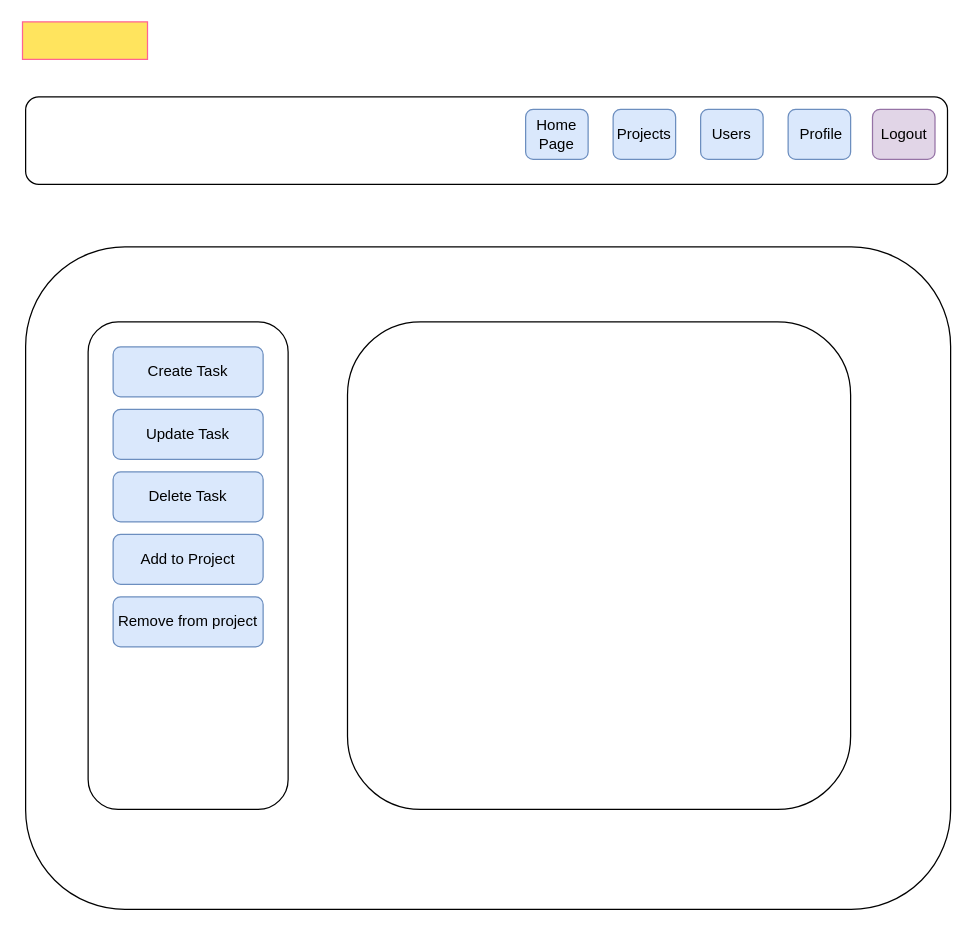
This 973x941 diagram has some shape labels left out. The centre of each missing label's shape, as x and y in pixels:
"Task list" goes at point (598, 565).
"Task page" goes at point (84, 40).
